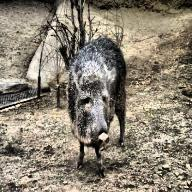boar: (62, 34, 140, 172)
